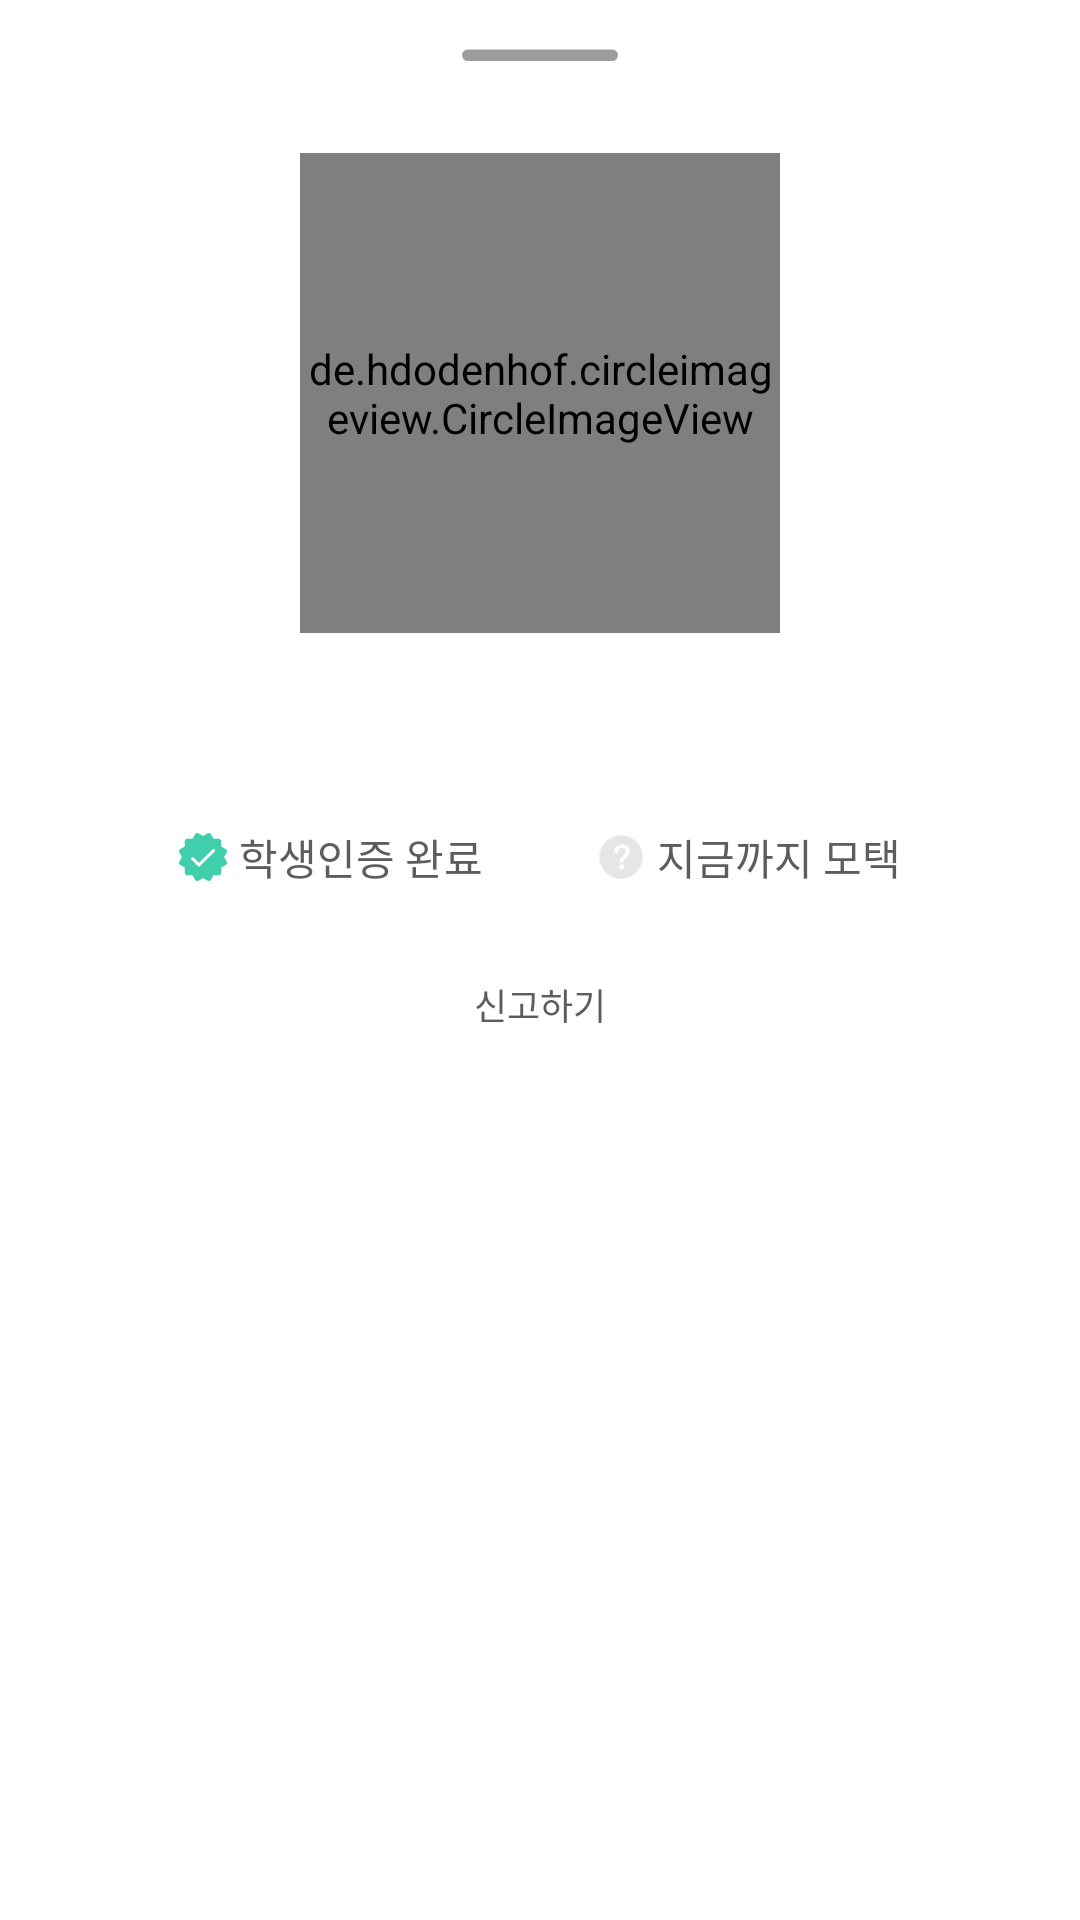

Screen size 1080w x 1920h. Icon name, then its box in pixels as detection(x1, y1, x2, y2):
badge: detection(179, 833, 227, 881)
question mark: detection(600, 836, 642, 878)
